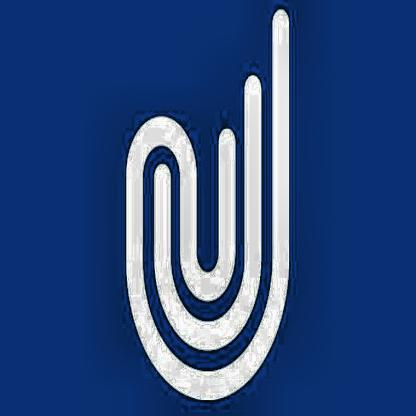Upstox: (123, 5, 295, 407)
